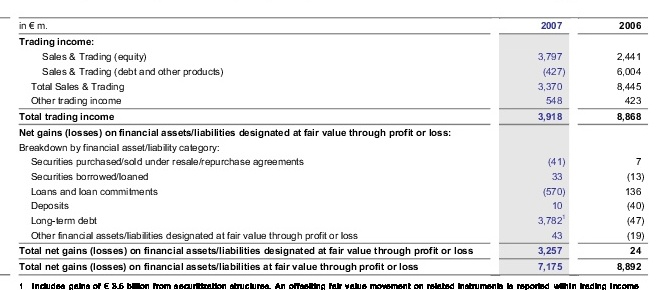table: (0, 0, 665, 290)
